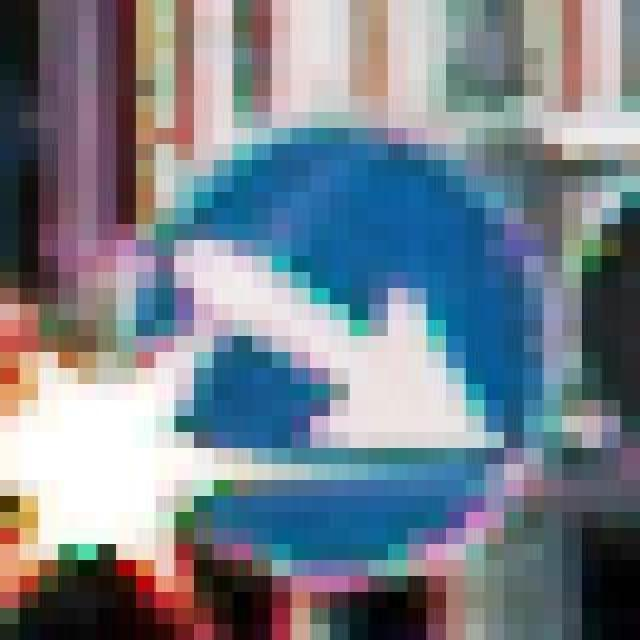keep right: (58, 112, 542, 576)
